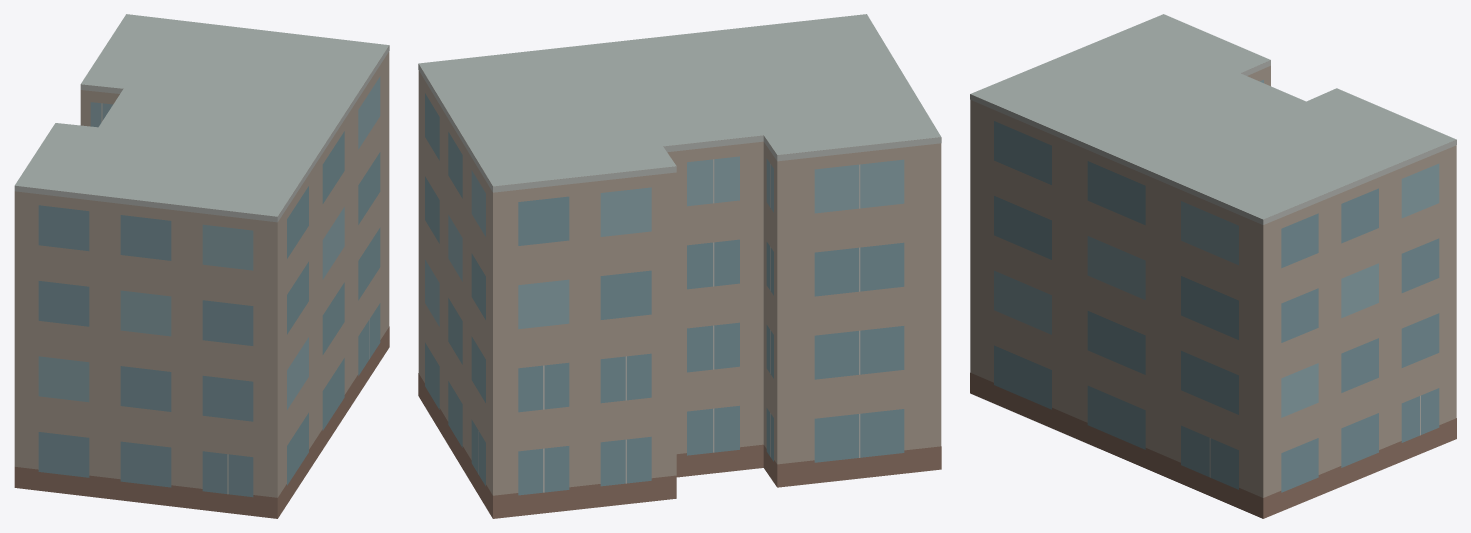
Rendered from survey-upis-32980688.glb.
The picture shows the model from 3 angles, left to right: view 1: azimuth 30°, elevation 25°; view 2: azimuth 150°, elevation 25°; view 3: azimuth 270°, elevation 25°; orthographic projection. The views are drawn at different scales.
Visible parts, largest first — view 1: survey-upis-32980688.tmp; view 2: survey-upis-32980688.tmp; view 3: survey-upis-32980688.tmp.
Part boxes in pixels (x1=…): survey-upis-32980688.tmp: x1=14, y1=14, x2=389, y2=518; survey-upis-32980688.tmp: x1=418, y1=14, x2=941, y2=518; survey-upis-32980688.tmp: x1=970, y1=14, x2=1456, y2=518.
Size of the model in its own units: 19.3 by 13.1 by 19.31.
